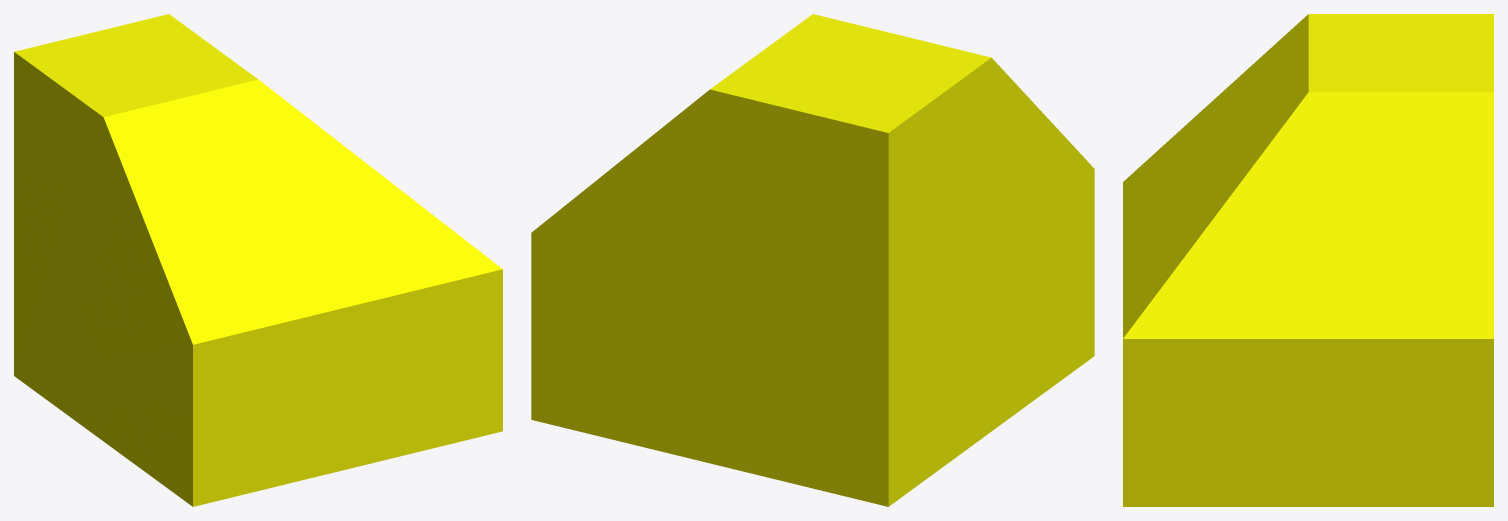
The model's file is kaykit-primitive-slope-half-outercorner.glb.
The picture shows the model from 3 angles, left to right: view 1: azimuth 30°, elevation 25°; view 2: azimuth 150°, elevation 25°; view 3: azimuth 270°, elevation 25°; orthographic projection. The views are drawn at different scales.
Visible parts, largest first — view 1: Primitive_Slope_Half_OuterCorner; view 2: Primitive_Slope_Half_OuterCorner; view 3: Primitive_Slope_Half_OuterCorner.
Boxes of the visible parts, box(x1,y1,x2,y2) form: Primitive_Slope_Half_OuterCorner: box(14, 14, 502, 506); Primitive_Slope_Half_OuterCorner: box(531, 14, 1094, 506); Primitive_Slope_Half_OuterCorner: box(1123, 14, 1493, 506).
Bounding box in the file's own units: 4 × 4 × 4.
